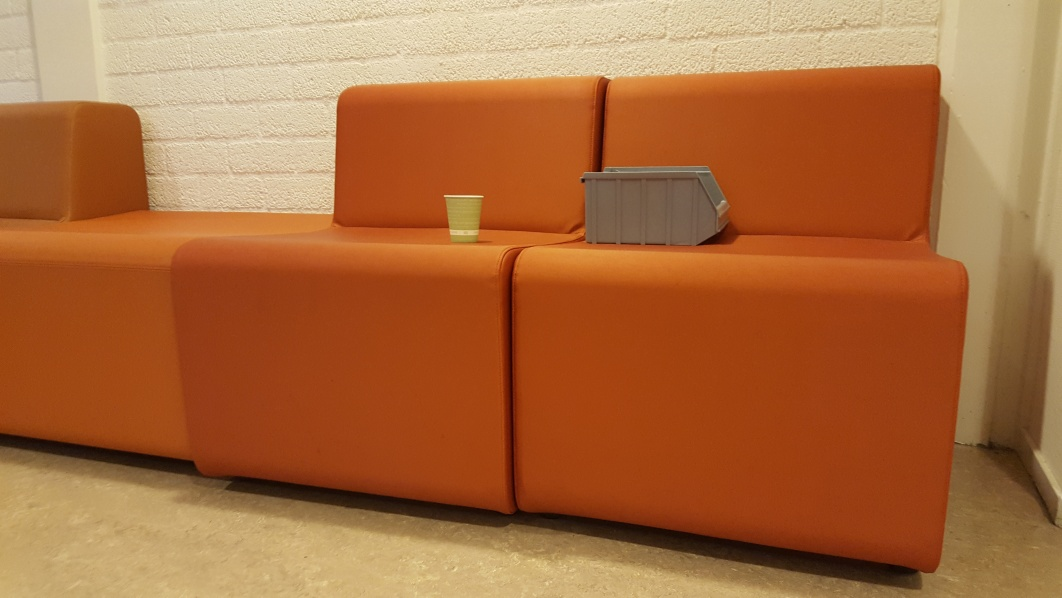cup: (443, 192, 486, 242)
tray: (579, 163, 732, 248)
